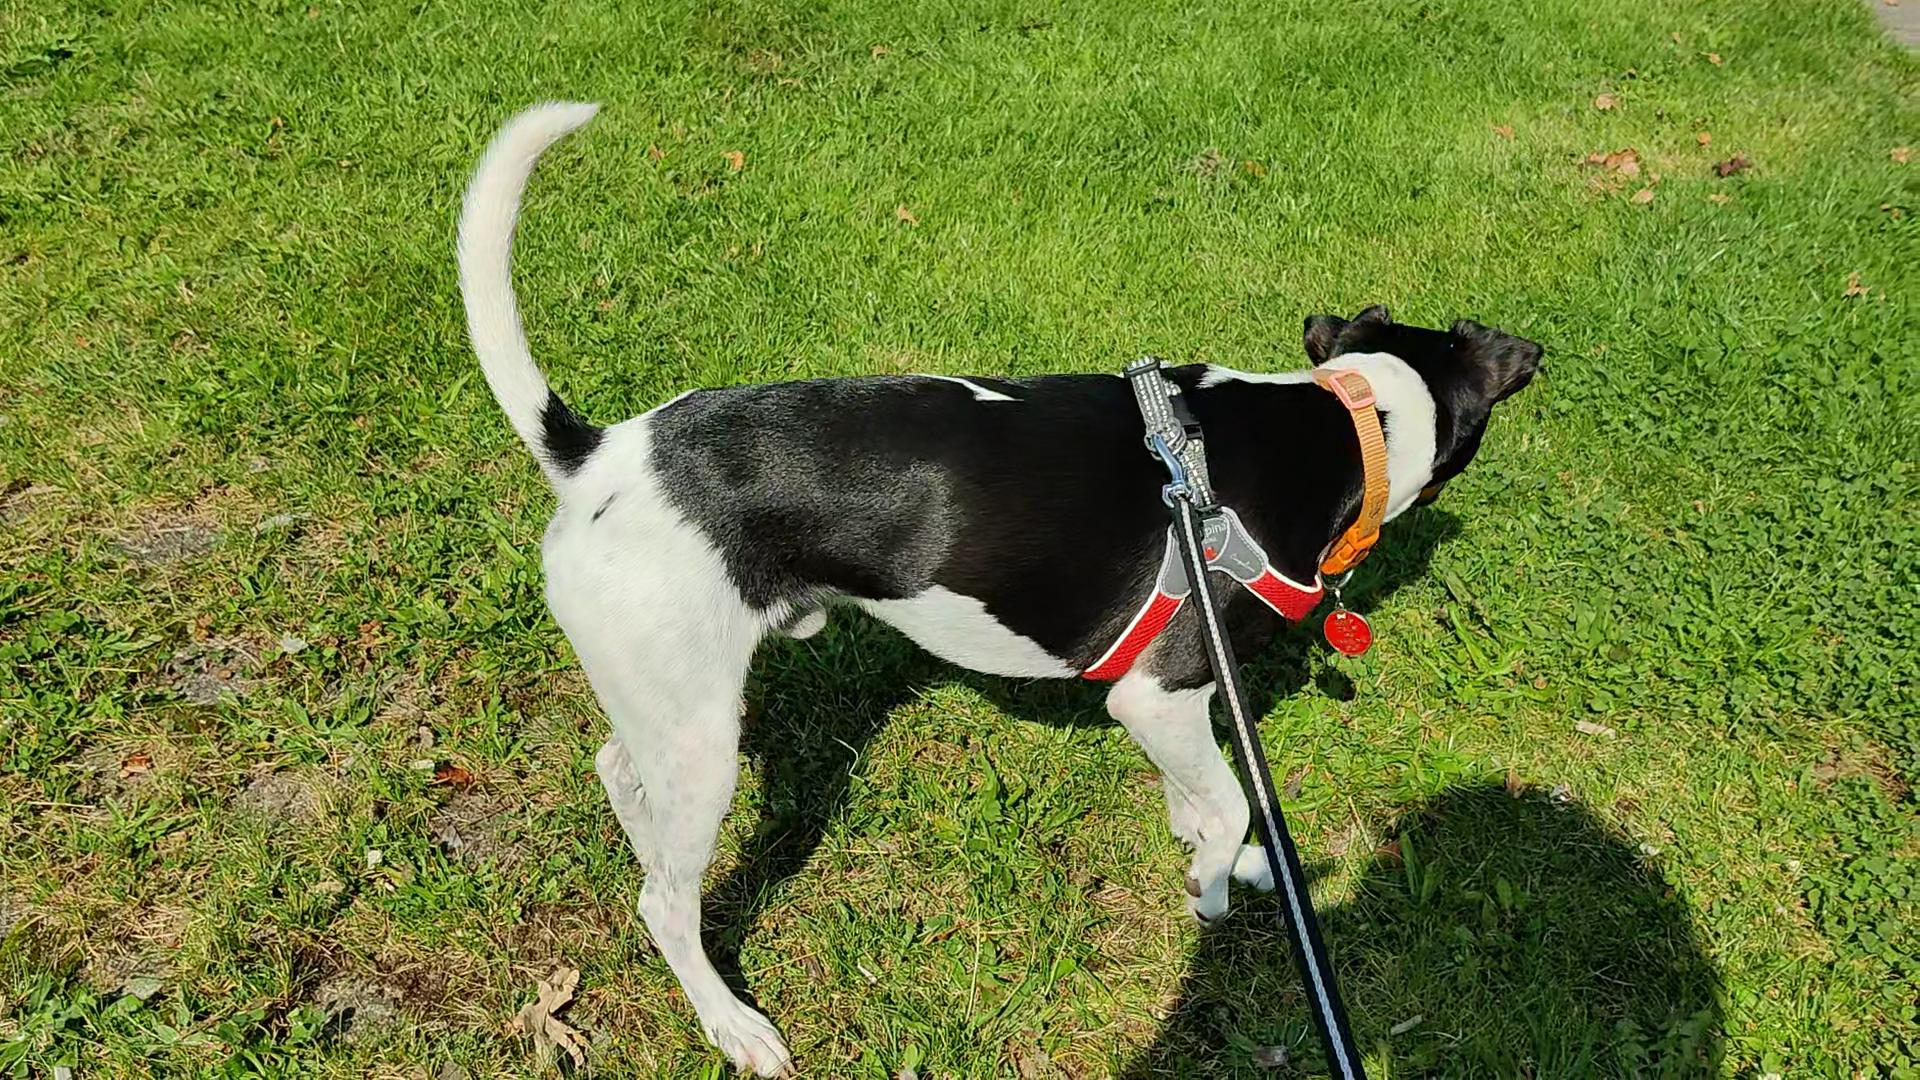Dog: (436, 55, 1560, 1079)
